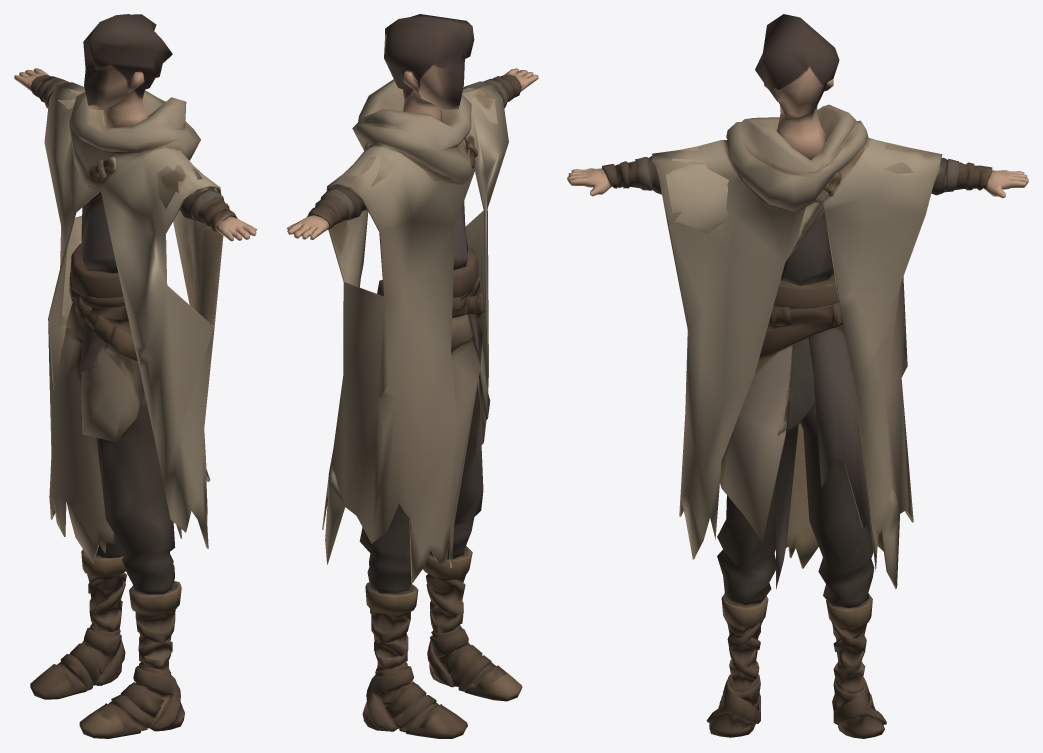
The model's file is char_player.glb.
The picture shows the model from 3 angles, left to right: view 1: azimuth 30°, elevation 25°; view 2: azimuth 150°, elevation 25°; view 3: azimuth 270°, elevation 25°; orthographic projection. The views are drawn at different scales.
Parts seen in each view (by area): view 1: tripo_node_a38a1dcd-5020-4025-bec0-ba2b309e82f7; view 2: tripo_node_a38a1dcd-5020-4025-bec0-ba2b309e82f7; view 3: tripo_node_a38a1dcd-5020-4025-bec0-ba2b309e82f7.
Part boxes in pixels (box(x1,y1,x2,y2)): tripo_node_a38a1dcd-5020-4025-bec0-ba2b309e82f7: box(14, 14, 257, 738); tripo_node_a38a1dcd-5020-4025-bec0-ba2b309e82f7: box(287, 14, 538, 738); tripo_node_a38a1dcd-5020-4025-bec0-ba2b309e82f7: box(567, 14, 1028, 738).
Bounding box in the file's own units: 0.209 × 0.998 × 0.5957.
Materials: 1 (1 with a texture image).
